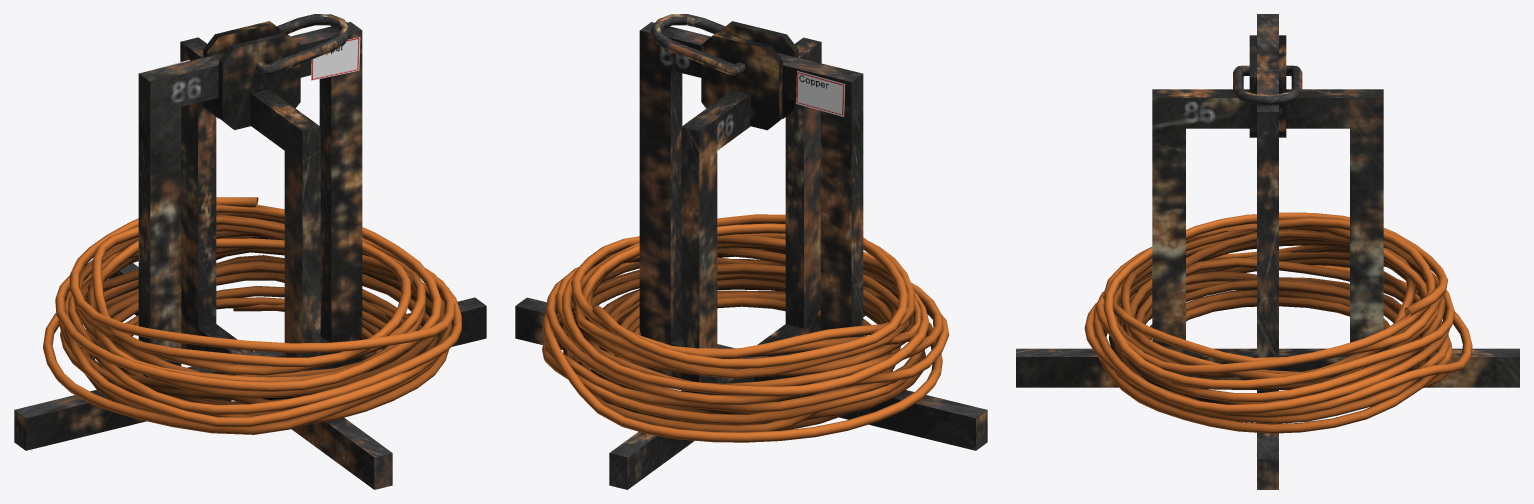
File: copperCoil.fbx
3 renders of one model, left to right at view 1: azimuth 30°, elevation 25°; view 2: azimuth 150°, elevation 25°; view 3: azimuth 270°, elevation 25°, orthographic. The views are drawn at different scales.
Parts seen in each view (by area): view 1: copperCoil; view 2: copperCoil; view 3: copperCoil.
Boxes of the visible parts, <box> form: copperCoil: <box>14,14,486,489</box>; copperCoil: <box>515,14,987,489</box>; copperCoil: <box>1016,14,1519,489</box>.
Size of the model in its own units: 0.6553 by 0.4827 by 0.6553.
Materials: 1 (1 with a texture image).
